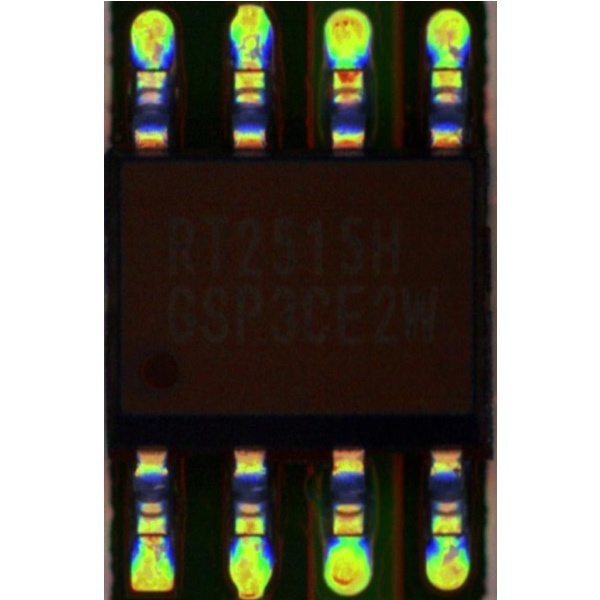Bad_podu: (144, 514, 160, 558), (242, 52, 262, 86)
